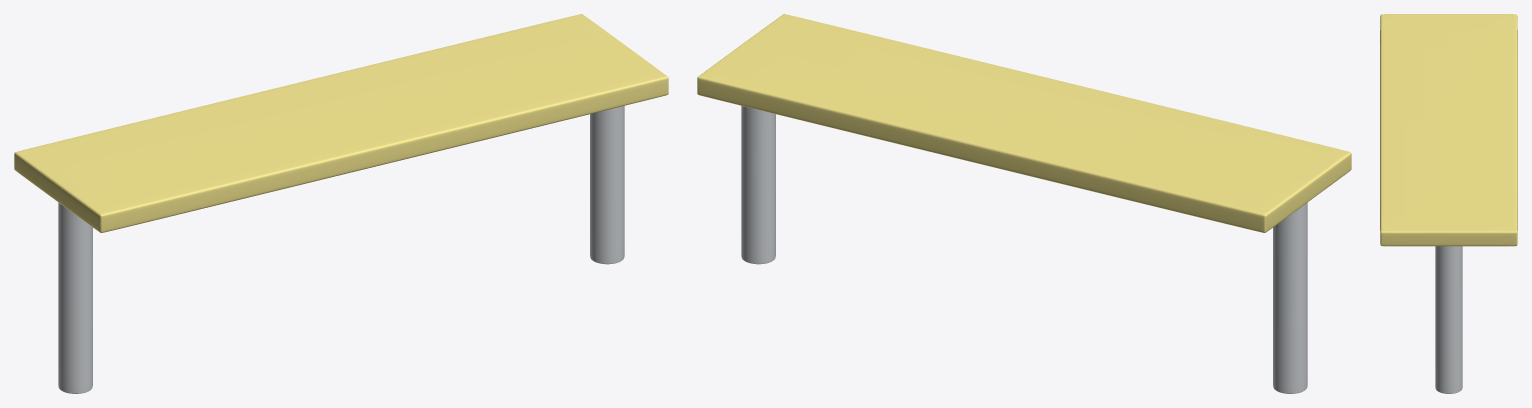
Rendered from Toy_Bridge_Hi_001129.fbx.
3 renders of one model, left to right at view 1: azimuth 30°, elevation 25°; view 2: azimuth 150°, elevation 25°; view 3: azimuth 270°, elevation 25°, orthographic. The views are drawn at different scales.
Parts seen in each view (by area): view 1: Cube, Cylinder, Cylinder.001; view 2: Cube, Cylinder, Cylinder.001; view 3: Cube, Cylinder.001.
Boxes of the visible parts, x1,y1,x2,y2 form: Cube: (14, 14, 668, 232); Cylinder: (58, 202, 92, 393); Cylinder.001: (590, 106, 624, 264); Cube: (697, 14, 1351, 232); Cylinder: (1273, 202, 1307, 393); Cylinder.001: (741, 106, 775, 264); Cube: (1380, 14, 1517, 246); Cylinder.001: (1435, 246, 1462, 393).
Size of the model in its own units: 3 by 1.05 by 0.7997.
